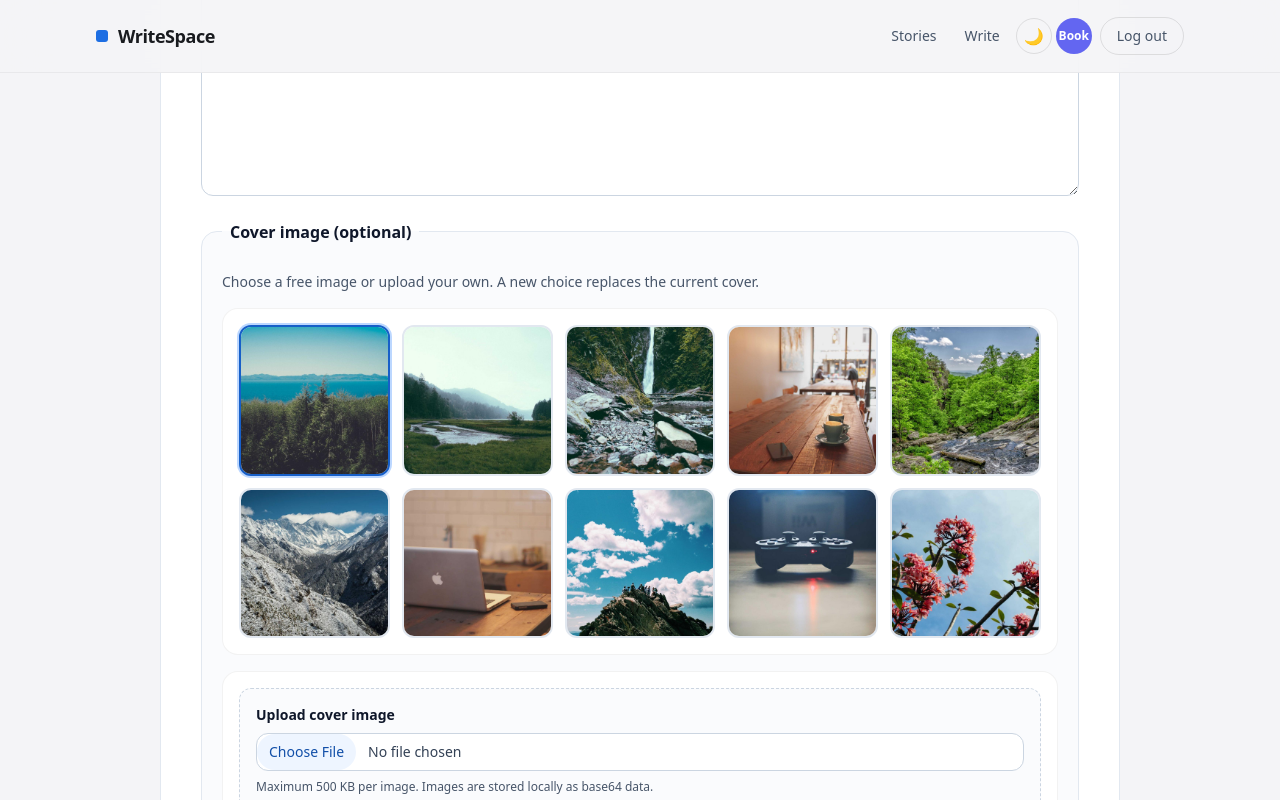
Test: blog pages › prefills editable images and preserves immutable metadata while changing them
(page scrolled)
Click the 4th button named "Modern city skyline viewed across the waterfront" at [803, 400], box 727,325 -> 878,476
(page scrolled)
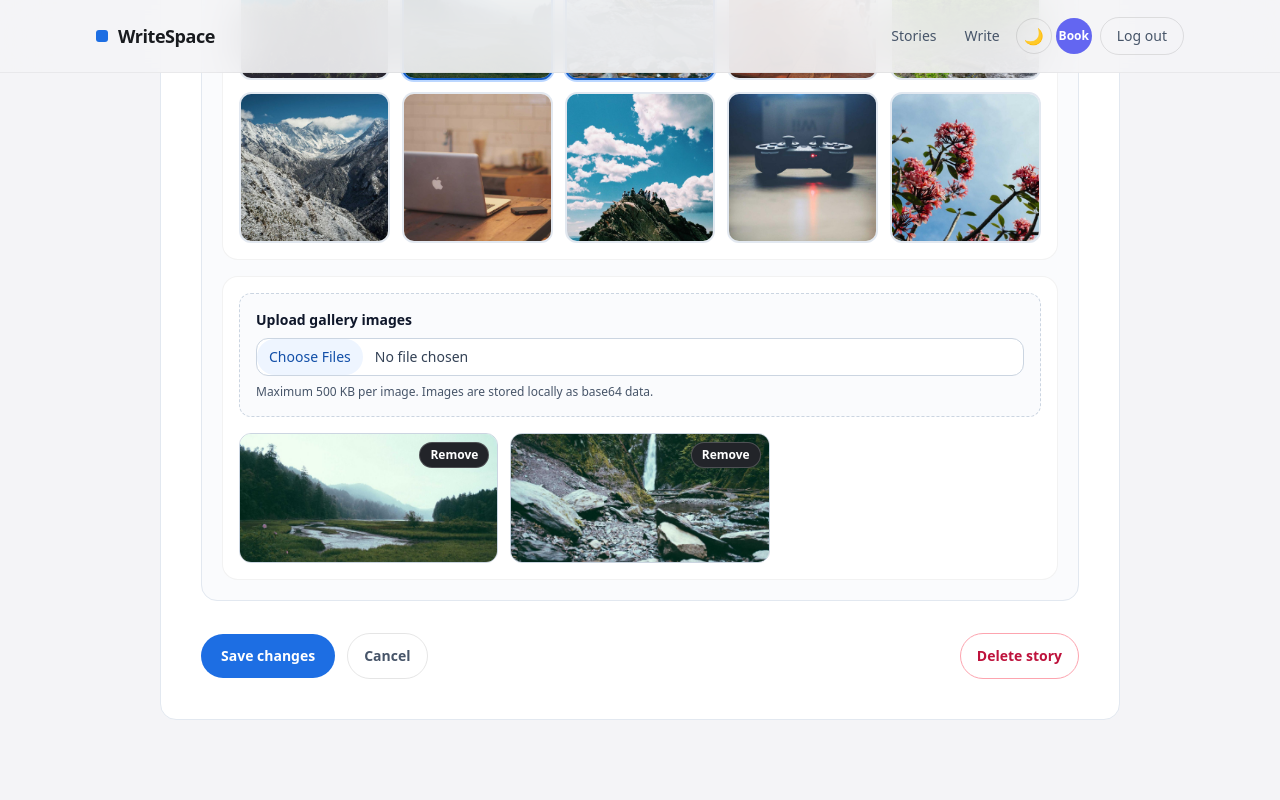
Click the button with aria-label "Remove gallery image 1" at [454, 455], box 419,442 -> 489,468
(page scrolled)
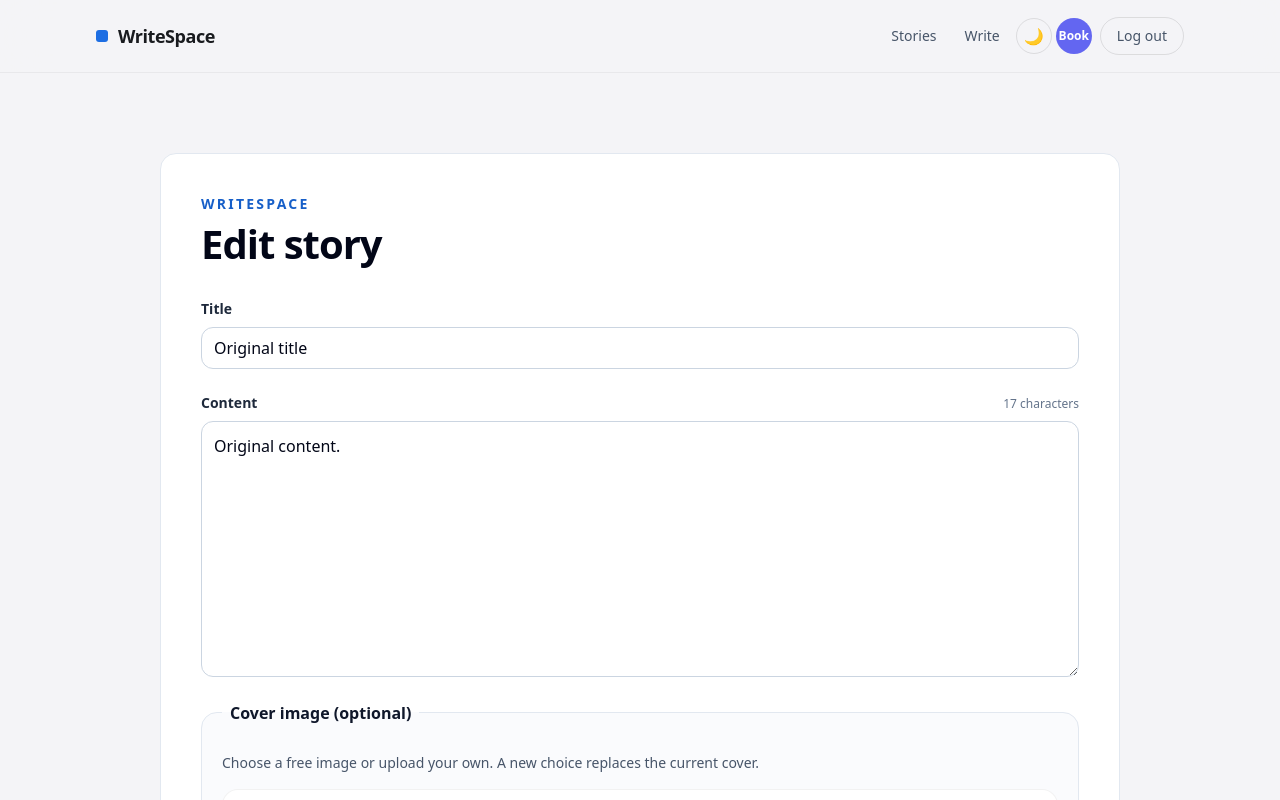
Replace the text in the field labelled "Title" with "Updated title" at [640, 348], box 201,327 -> 1079,369
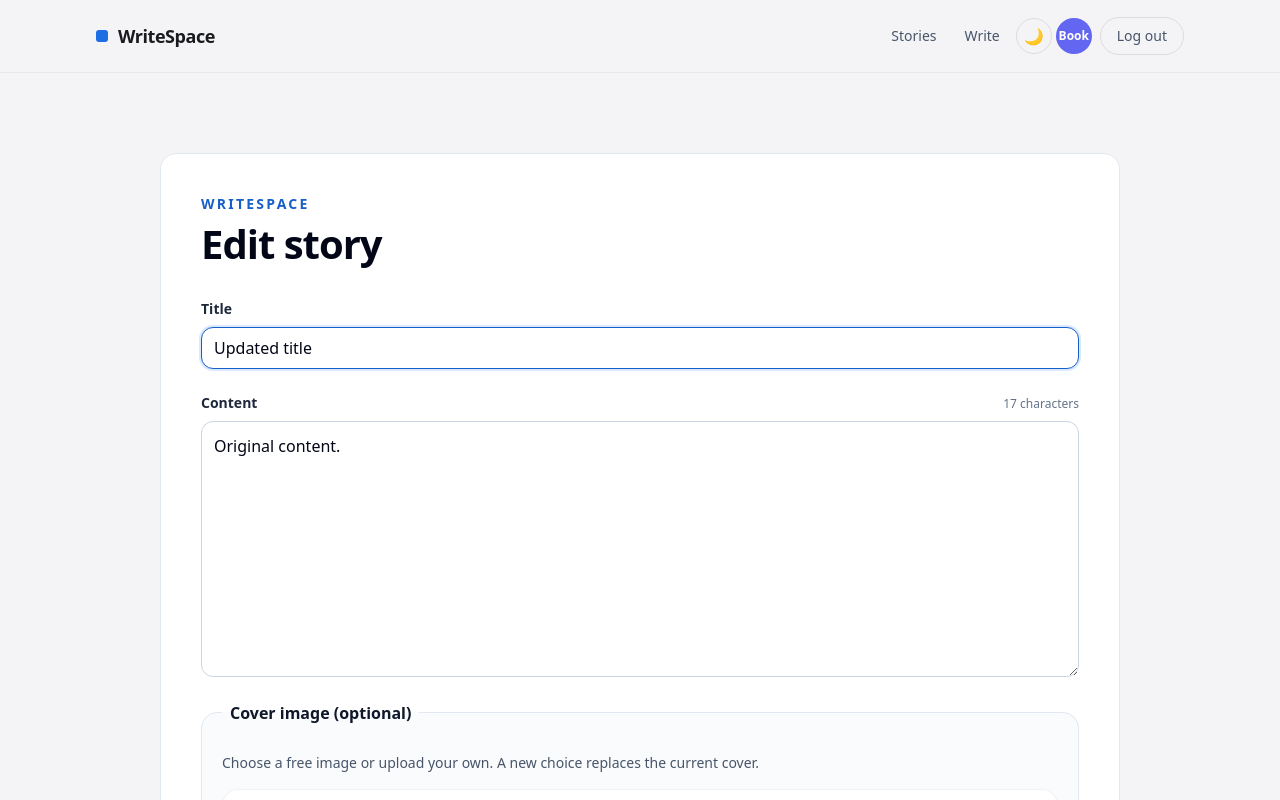
Replace the text in the text box labelled "Content" with "Updated content." at [640, 549], box 201,421 -> 1079,677
(page scrolled)
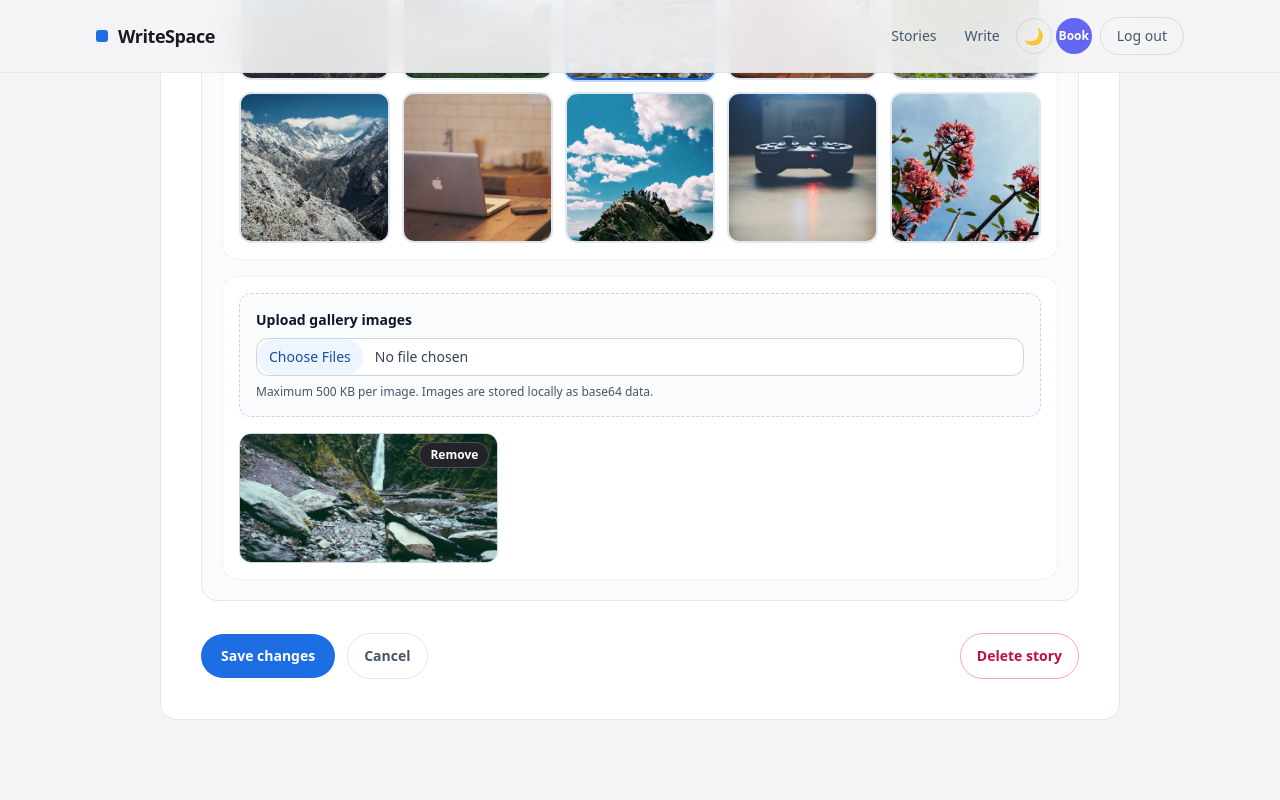
Click the button "Save changes" at [268, 656], box 201,634 -> 335,678
(page scrolled)
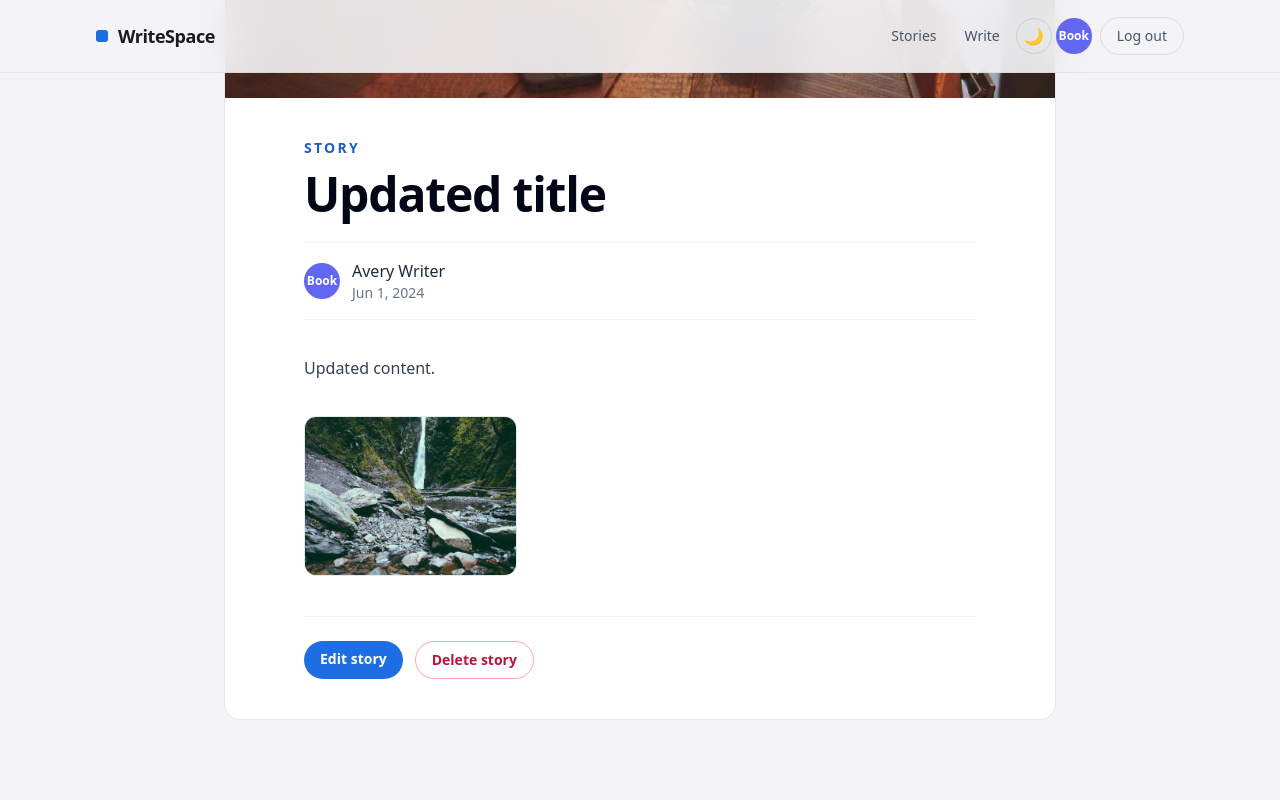
Result: the heading "Updated title" is shown at 304,161 -> 606,226
